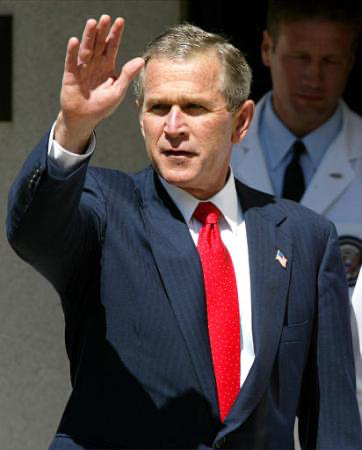Face: (134, 79, 252, 197), (260, 23, 350, 135)
